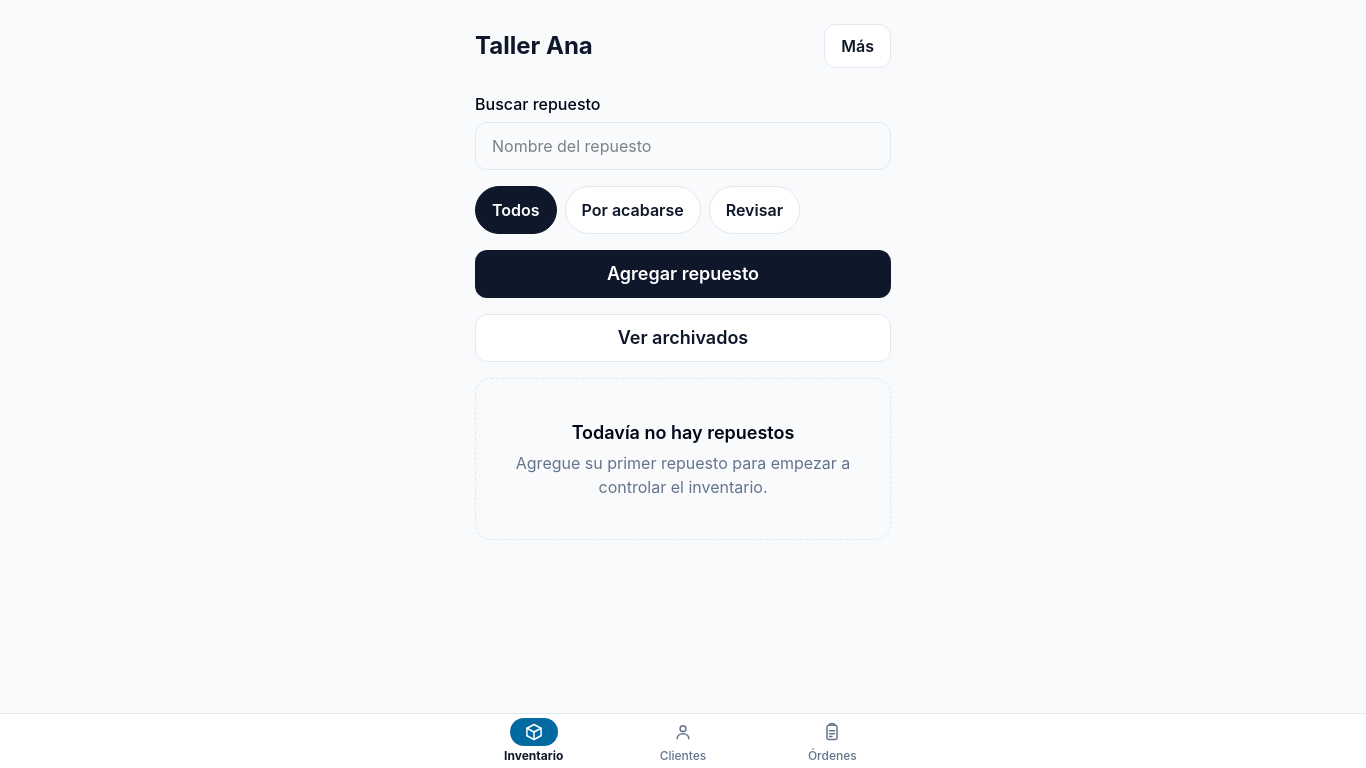
Test: AppShell › shows a Spanish error when logout fails, instead of failing silently
Expected: the text "Taller Ana" is shown, top-left (475, 30), bottom-right (593, 62)
Step 1. Click the button "Más" → (858,46), box top-left (824, 24), bottom-right (891, 68)
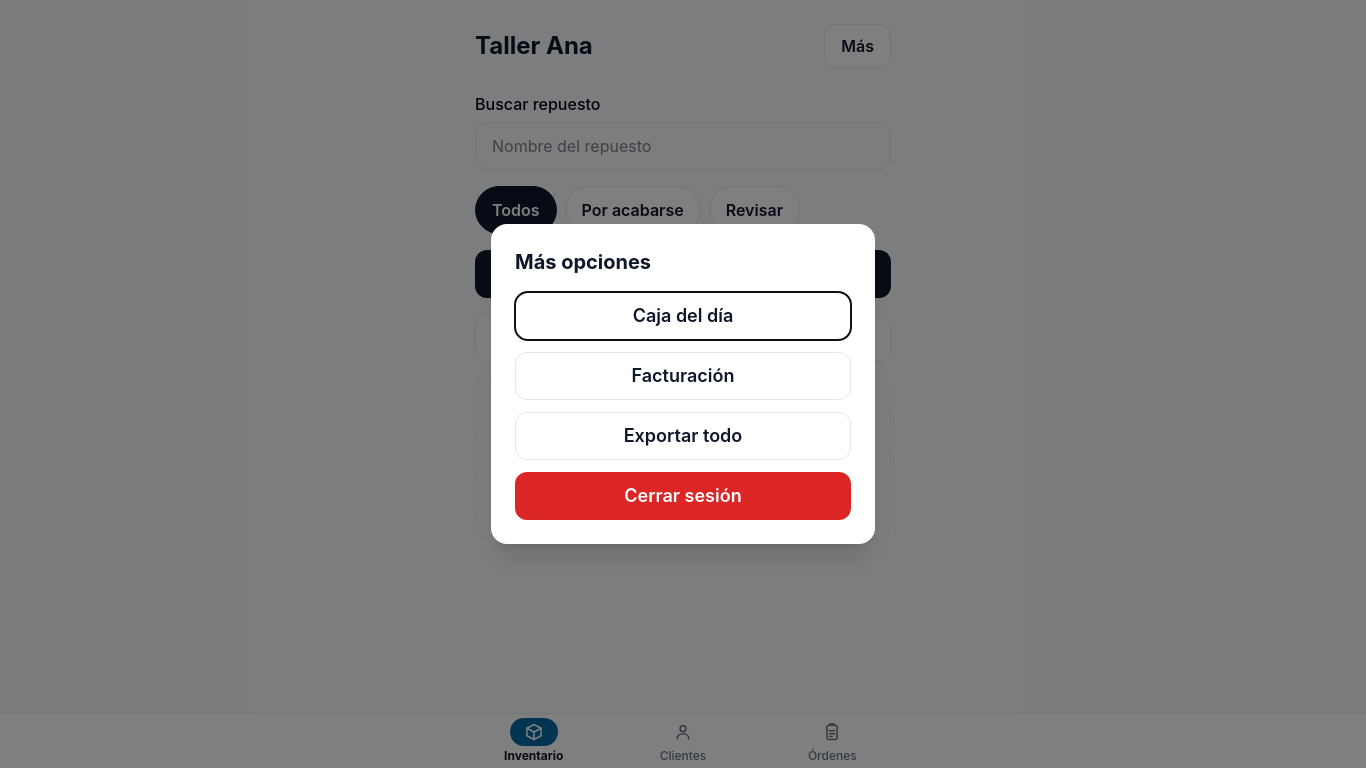
Step 2. Click the button "Cerrar sesión" → (683,496), box top-left (515, 472), bottom-right (851, 520)
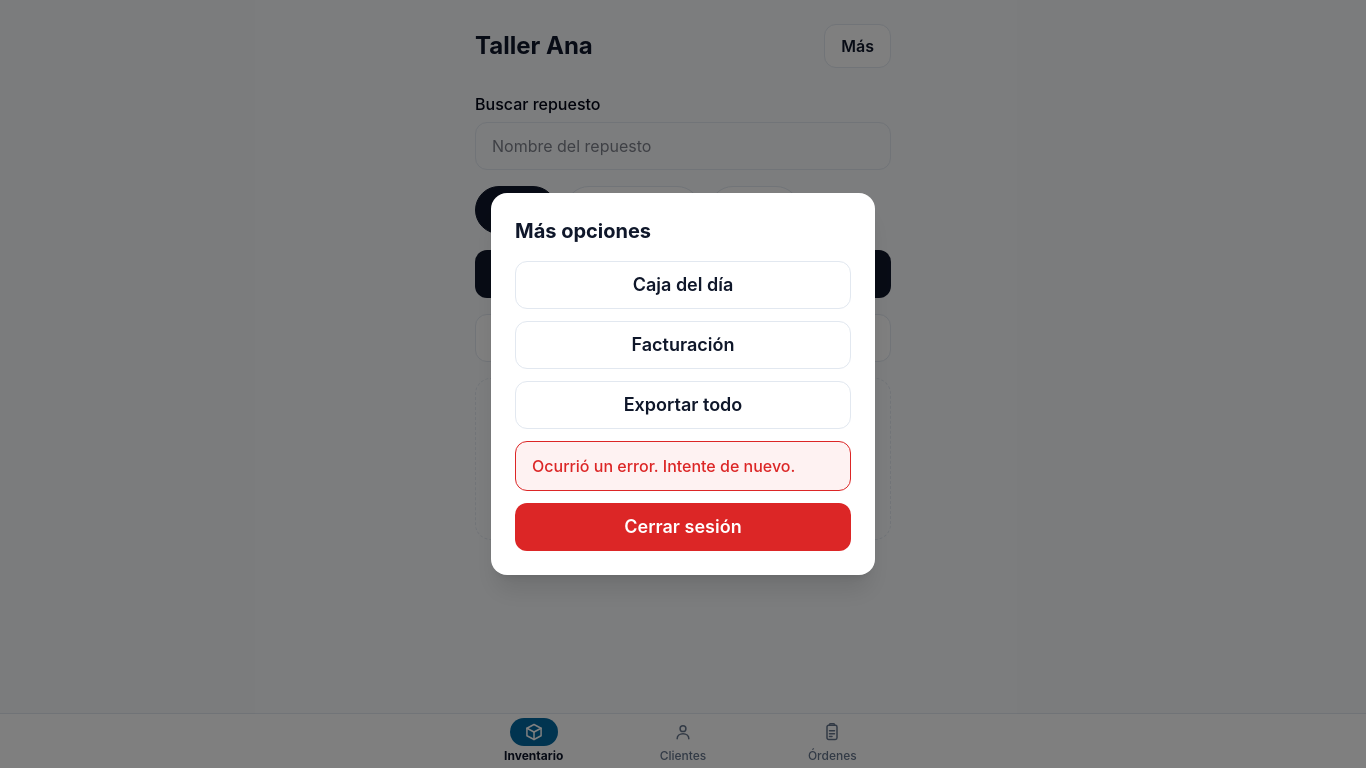
Expected: the text "Taller Ana" is shown, top-left (475, 30), bottom-right (593, 62)
Now the text "Ocurrió un error. Intente de nuevo." is shown, box top-left (515, 441), bottom-right (851, 491)
